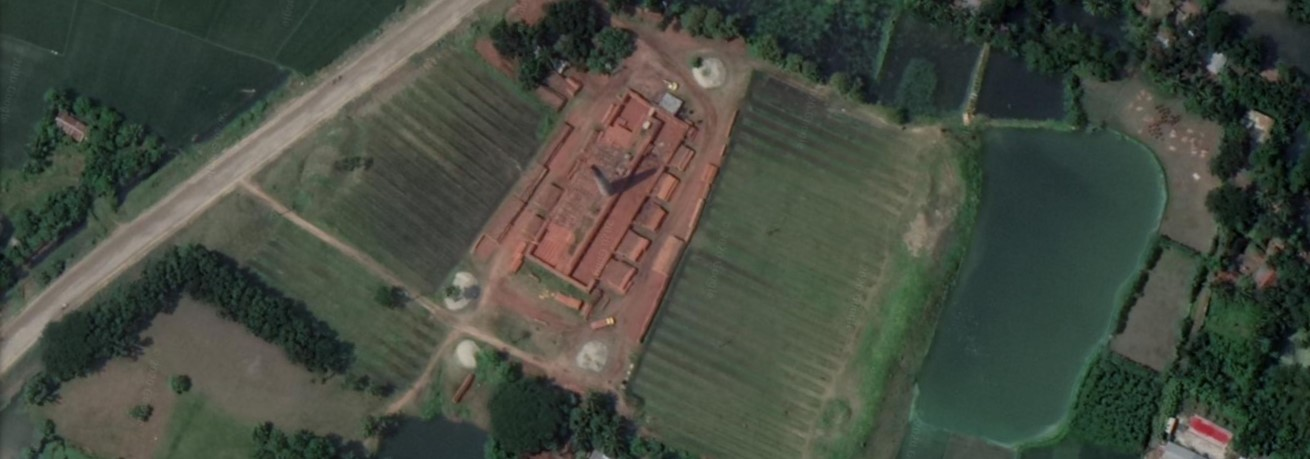kiln: (510, 101, 705, 251)
